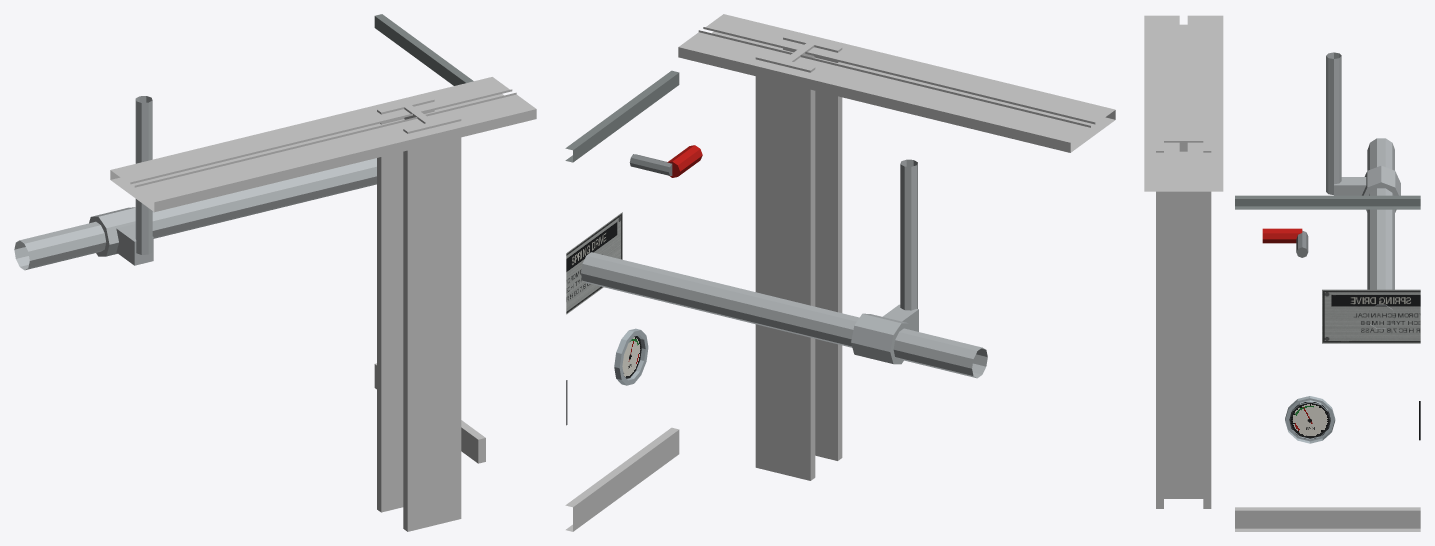
File: cell_16.obj
3 views of the same model, side by side, from view 1: azimuth 30°, elevation 25°; view 2: azimuth 150°, elevation 25°; view 3: azimuth 270°, elevation 25° (orthographic). The views are drawn at different scales.
Bounding box in the file's own units: 1 × 1 × 0.7.
